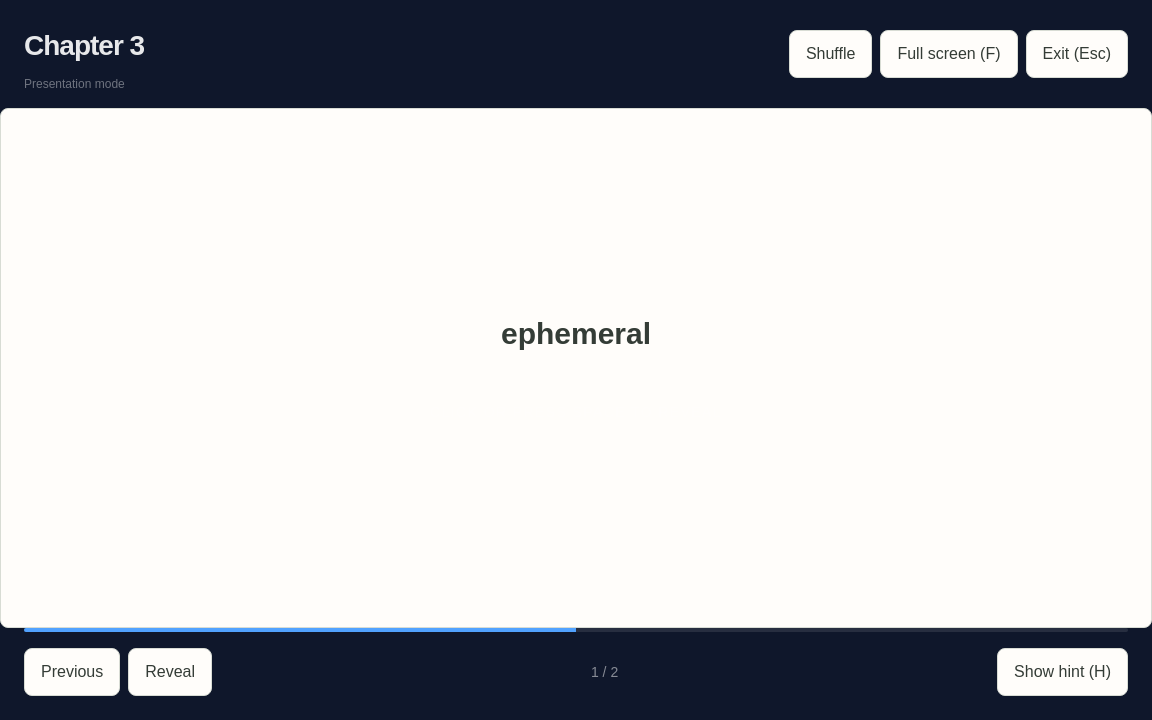
Test: DeckPresentPage › shows a hint only when the teacher asks for it
Expected: the text "ephemeral" is shown, [501,317,651,350]
Expected: the text "think mayfly" is not shown
Click the button "Show hint (H)" at (1063, 672), box [997,648,1128,696]
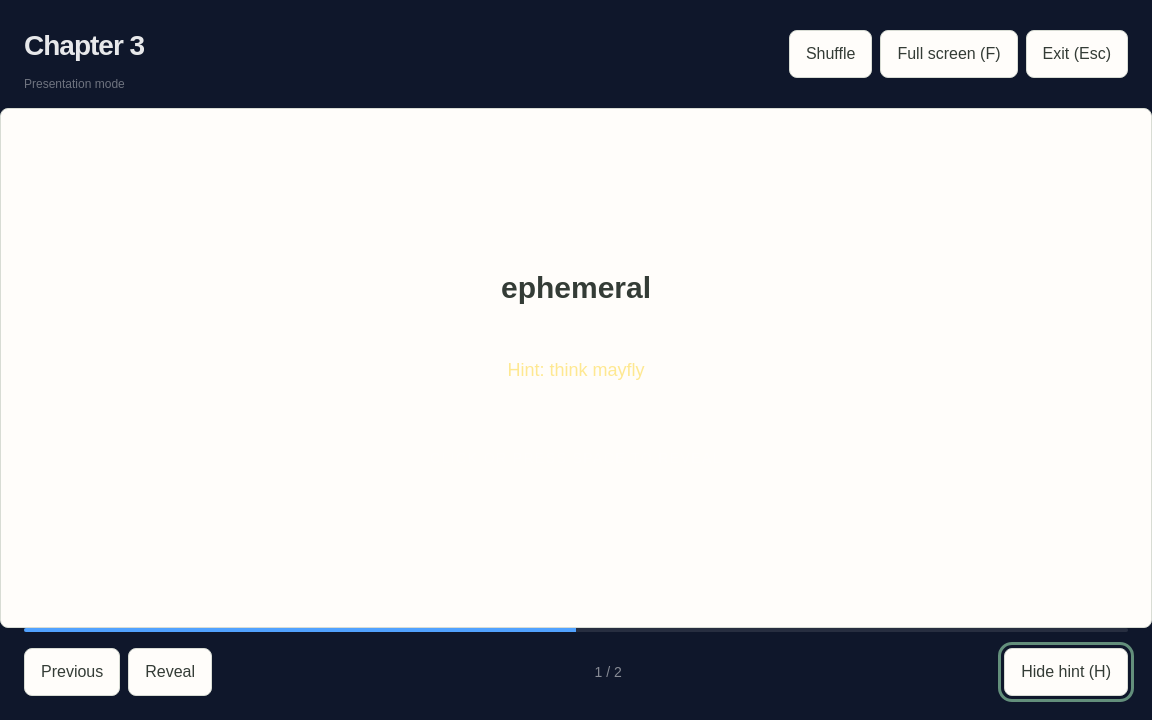
Expected: the text "Hint: think mayfly" is shown, [192,340,960,400]
